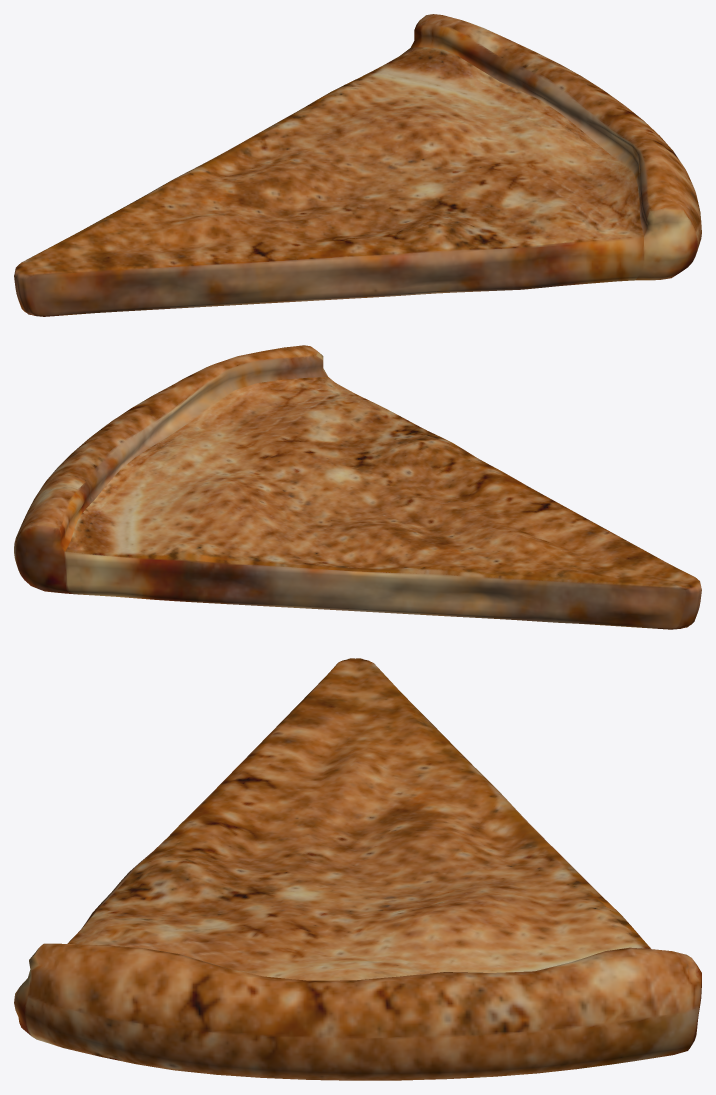
Rendered from PIZZA.glb.
The picture shows the model from 3 angles, top to bottom: view 1: azimuth 30°, elevation 25°; view 2: azimuth 150°, elevation 25°; view 3: azimuth 270°, elevation 25°; orthographic projection. The views are drawn at different scales.
Parts seen in each view (by area): view 1: PIZZA; view 2: PIZZA; view 3: PIZZA.
Part boxes in pixels (<box>): PIZZA: <box>14,14,701,316</box>; PIZZA: <box>14,345,701,629</box>; PIZZA: <box>14,658,701,1080</box>.
Bounding box in the file's own units: 0.00249 × 0.00032 × 0.00189.
1 material, 1 textured.
